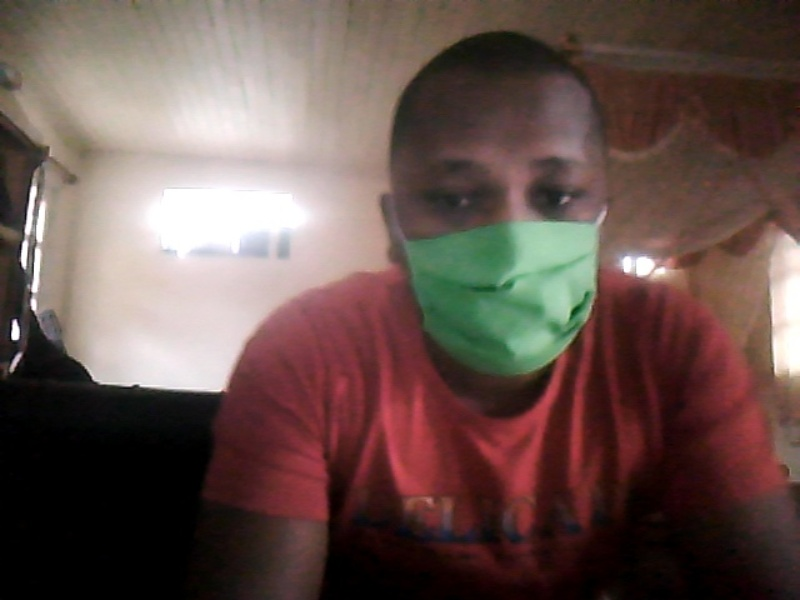ManaoArotava: (366, 29, 633, 397)
